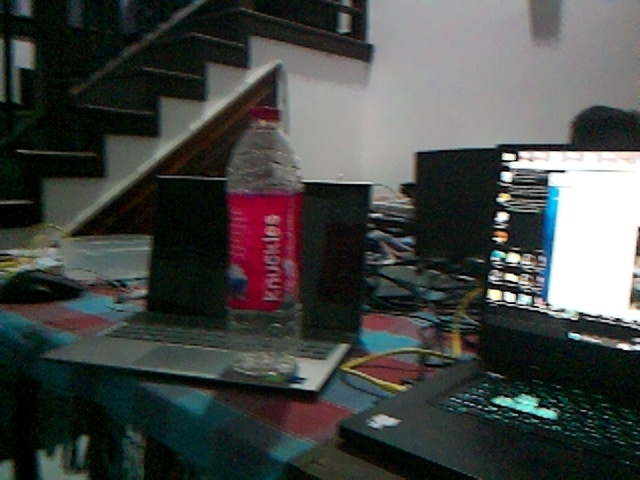bottle: (222, 105, 305, 383)
